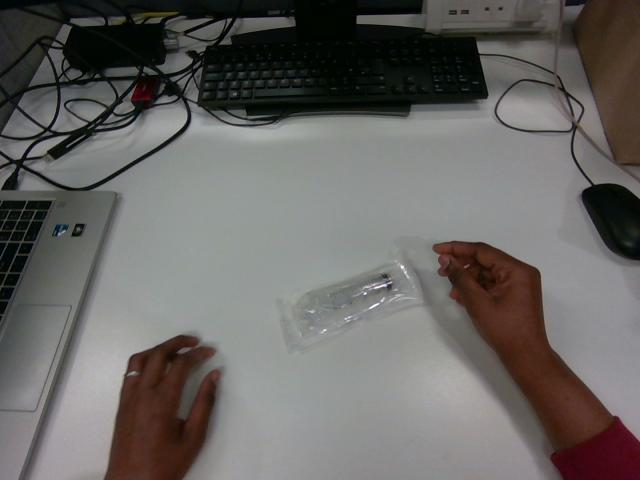syringe: (277, 254, 422, 352)
